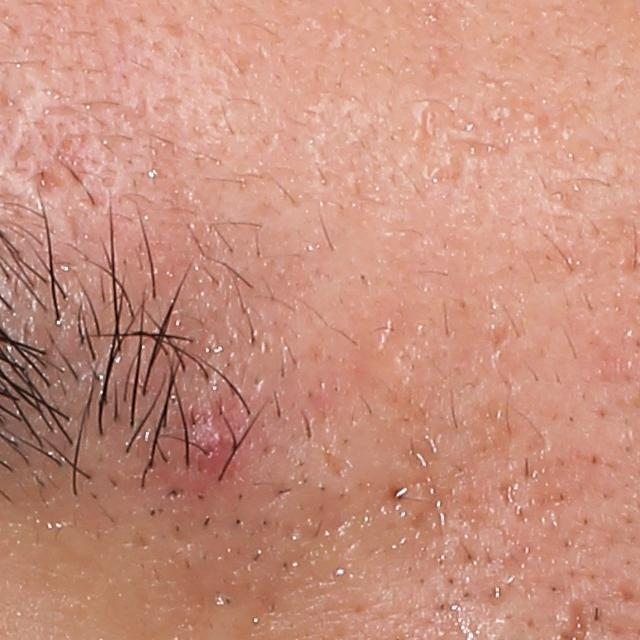atrophic_scar: (403, 444, 457, 538), (25, 167, 81, 202)
